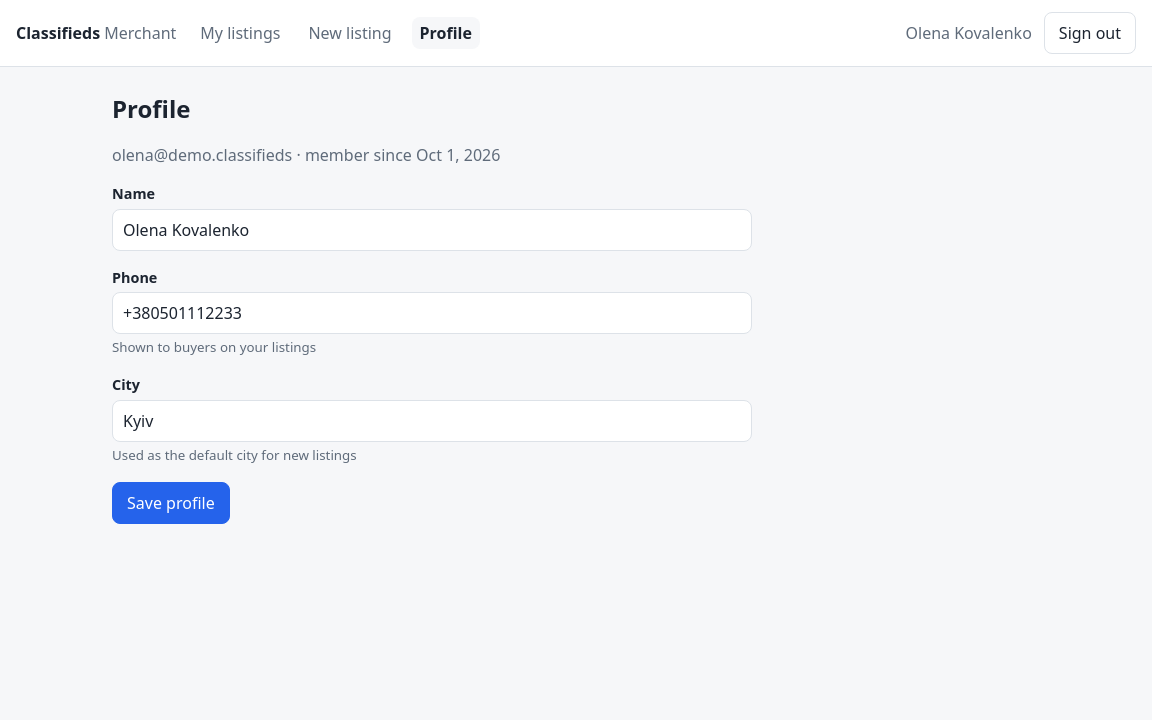
Test case: profile page › validates the phone and name before sending
Clear the field labelled "Name" at (432, 230), box left=112, top=209, right=752, bottom=251
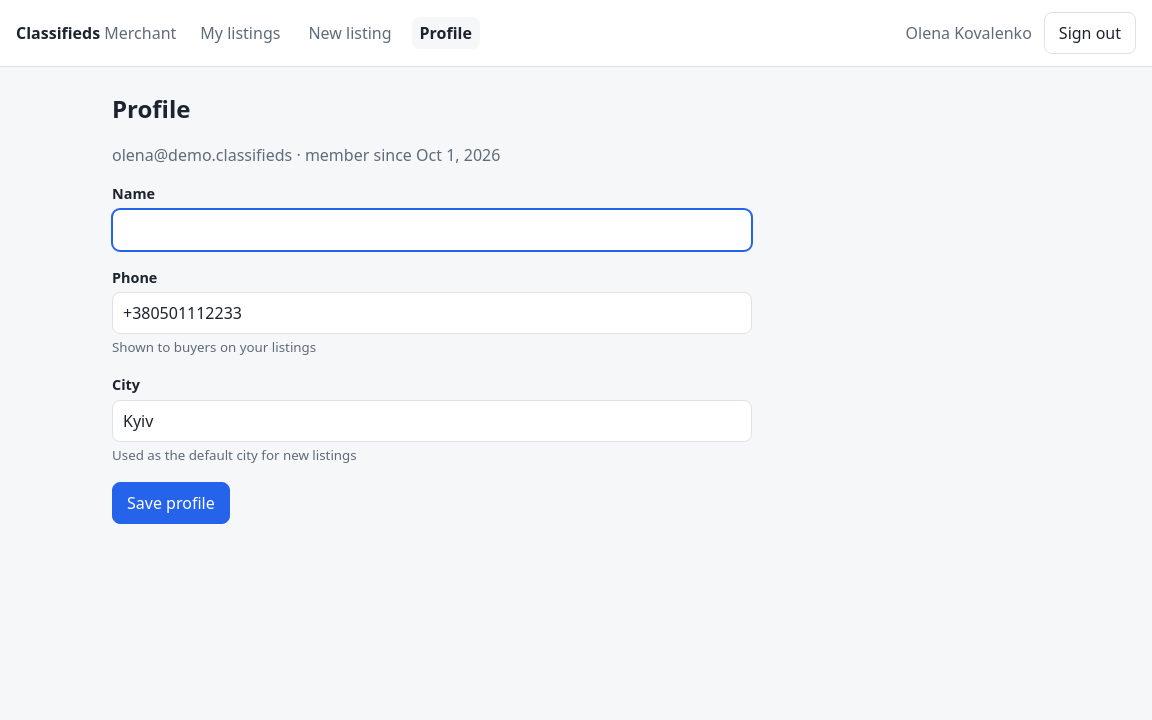
Replace the text in the field labelled "Phone" with "call me" at (432, 313), box left=112, top=292, right=752, bottom=334
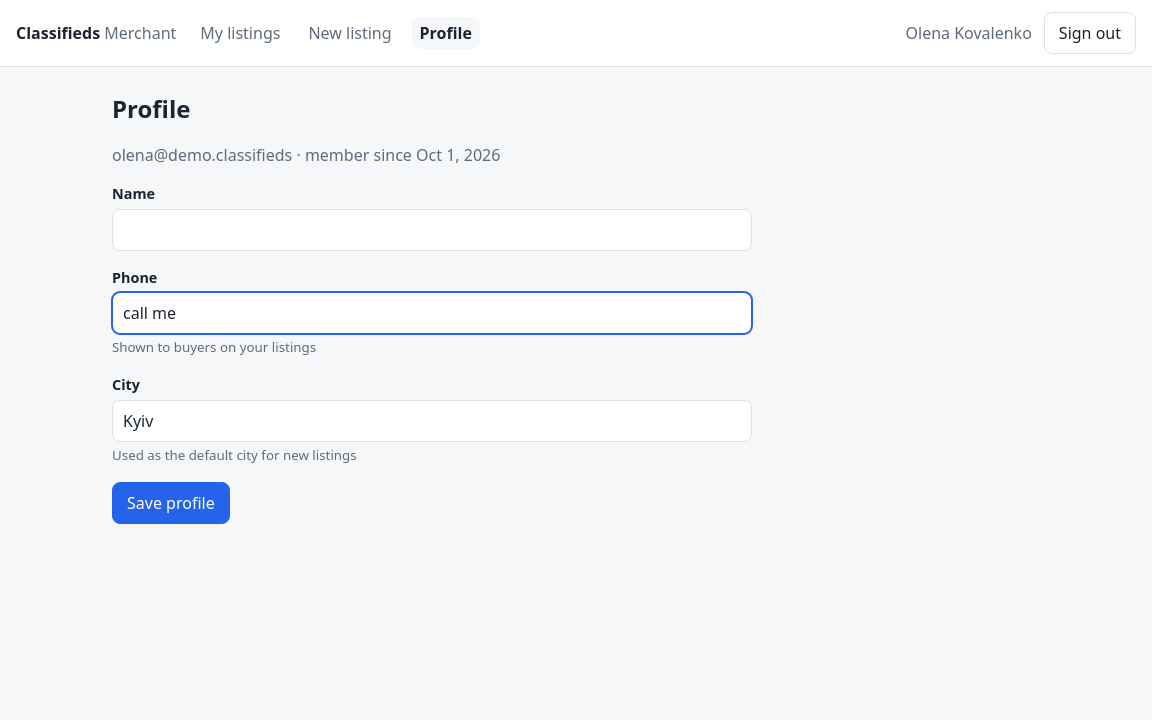
Click the button "Save profile".
click(171, 503)  # box left=112, top=482, right=230, bottom=524
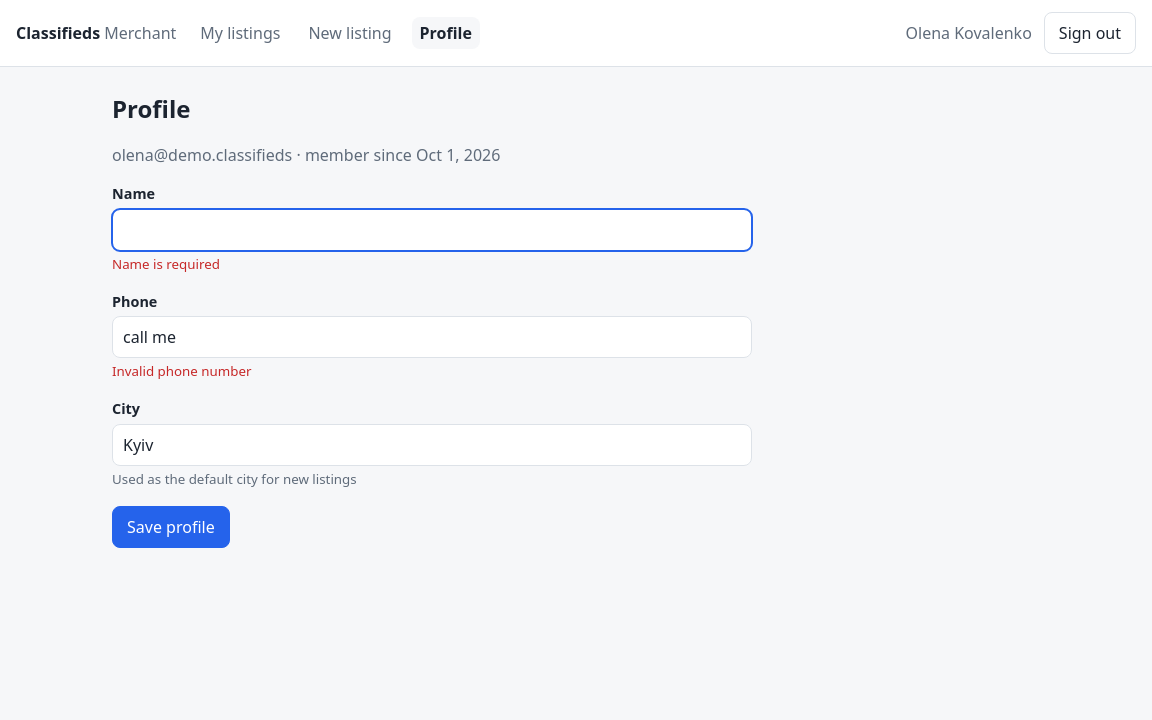
Result: the text "Invalid phone number" is shown at left=112, top=362, right=251, bottom=380
Result: the text "Name is required" is shown at left=112, top=255, right=220, bottom=273
